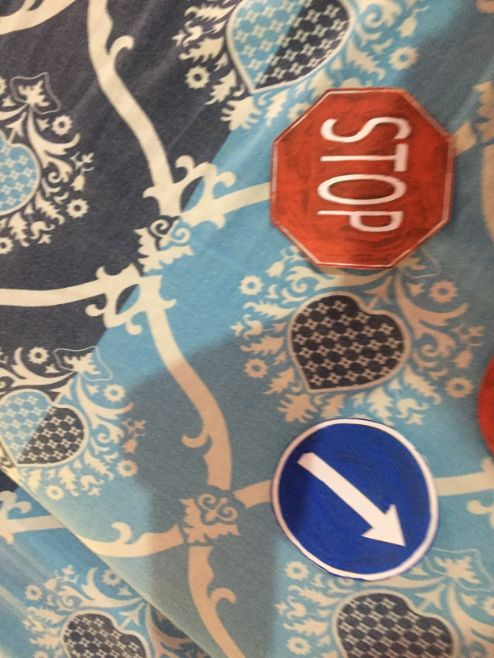go-stright: (269, 417, 435, 583)
stop: (269, 87, 450, 268)
